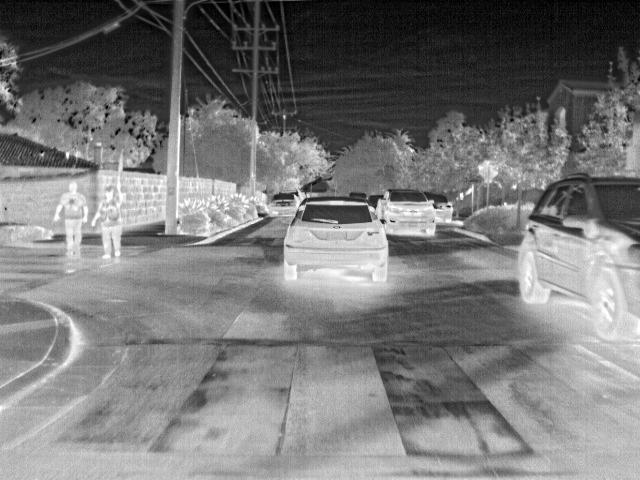car: (521, 175, 640, 343), (284, 197, 390, 284), (375, 190, 435, 234), (428, 193, 454, 221), (273, 191, 302, 216), (369, 192, 384, 206), (350, 191, 369, 201), (294, 190, 309, 202)
person: (61, 179, 91, 261), (101, 184, 123, 260)
